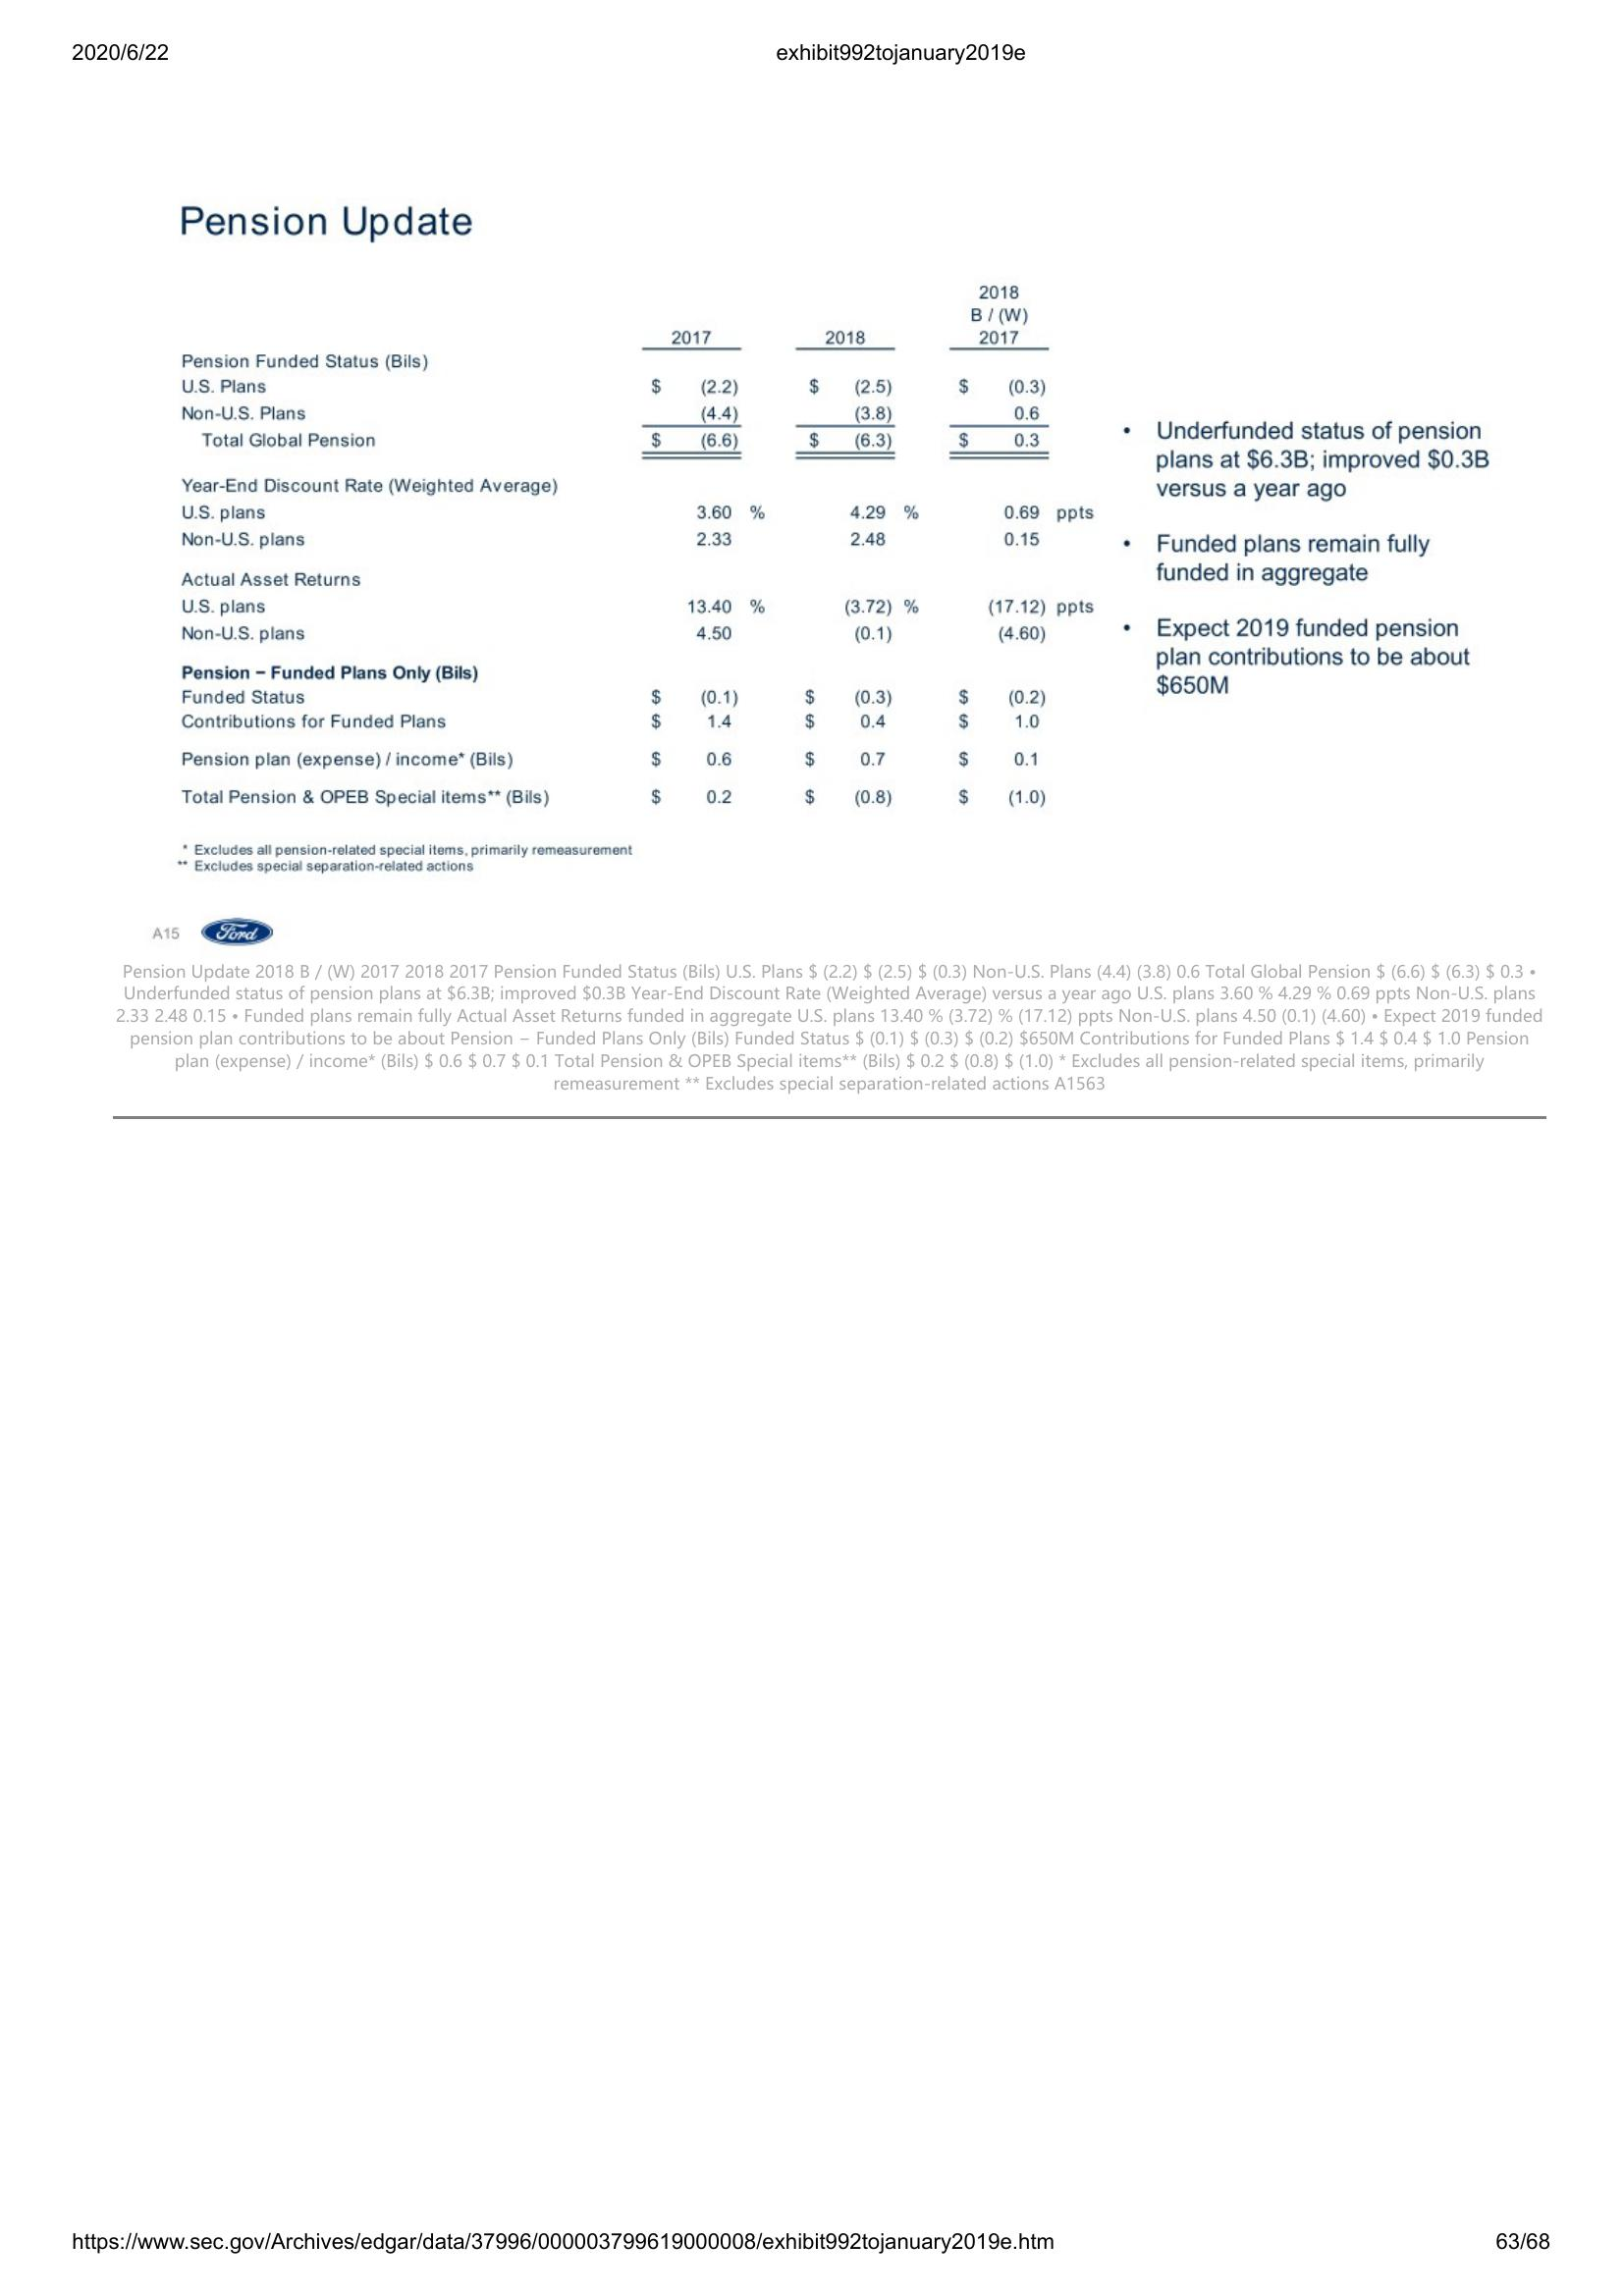table: (170, 267, 1103, 879)
